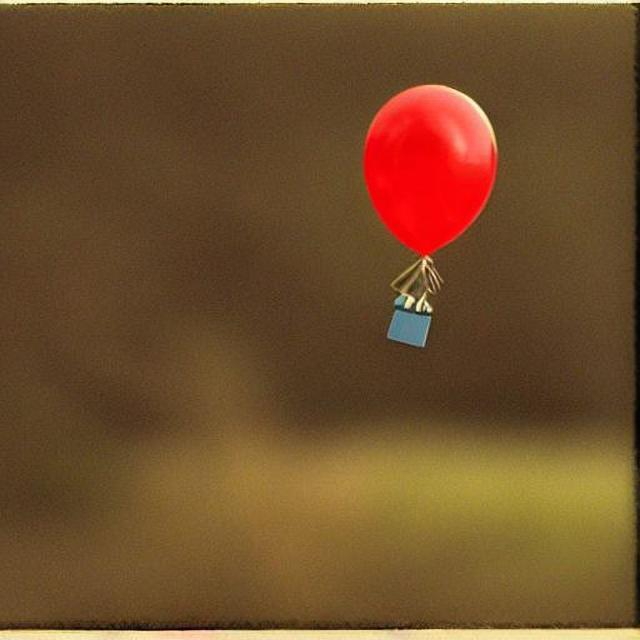balloon: (354, 80, 494, 284)
